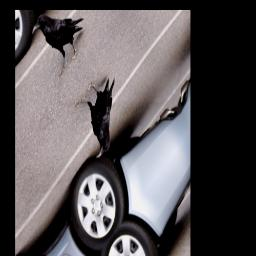Crow: (72, 62, 135, 164)
